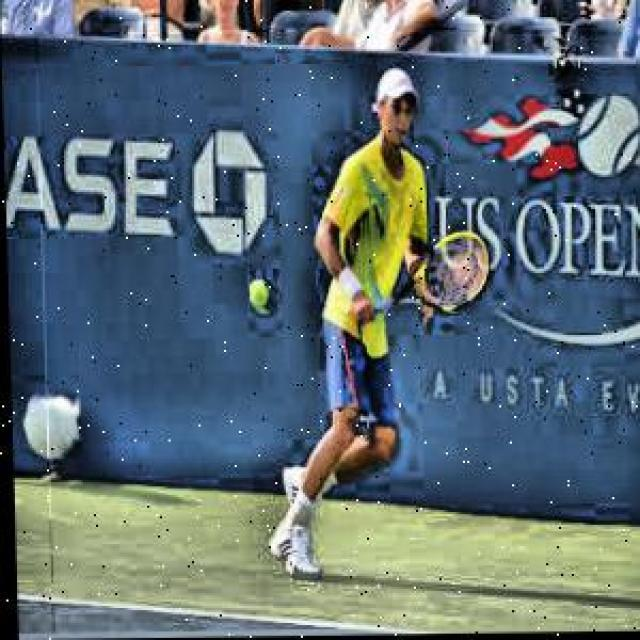tennis-ball: (250, 282, 278, 316)
